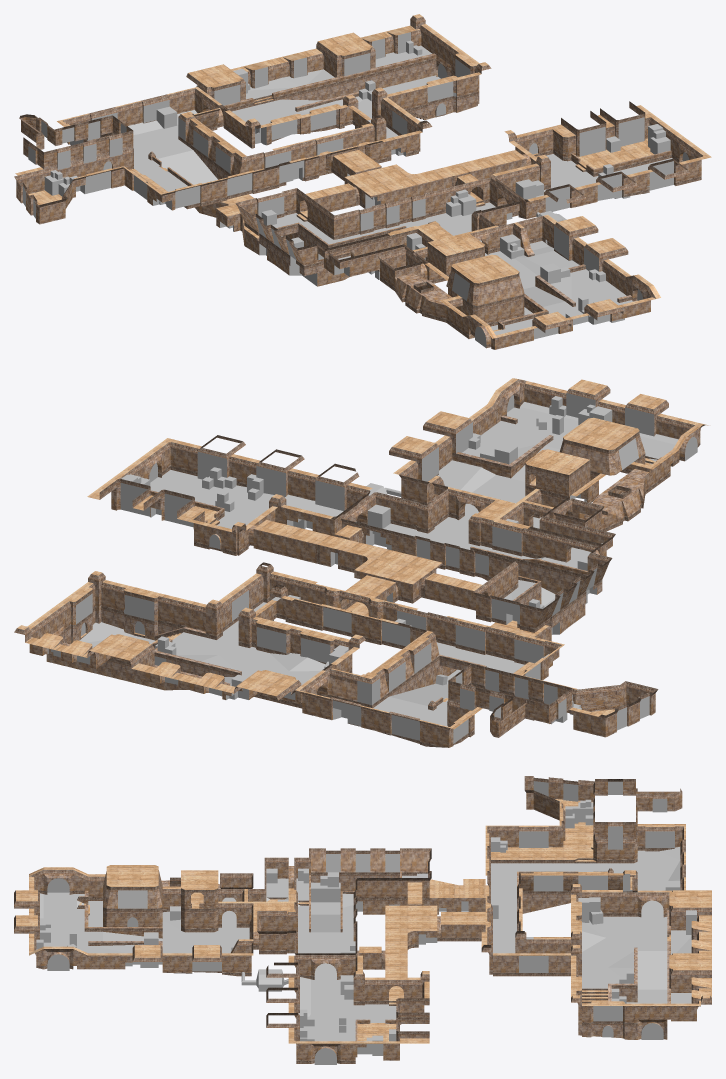
The model's file is S_Dust_v004_removedoor.fbx.
3 views of the same model, one above another, from view 1: azimuth 30°, elevation 25°; view 2: azimuth 150°, elevation 25°; view 3: azimuth 270°, elevation 25° (orthographic). The views are drawn at different scales.
Parts seen in each view (by area): view 1: S_Dust; view 2: S_Dust; view 3: S_Dust.
Boxes of the visible parts, x1,y1,x2,y2 form: S_Dust: [14, 14, 711, 349]; S_Dust: [14, 378, 708, 747]; S_Dust: [14, 776, 711, 1064].
Bounding box in the file's own units: 136 × 15.2 × 150.
